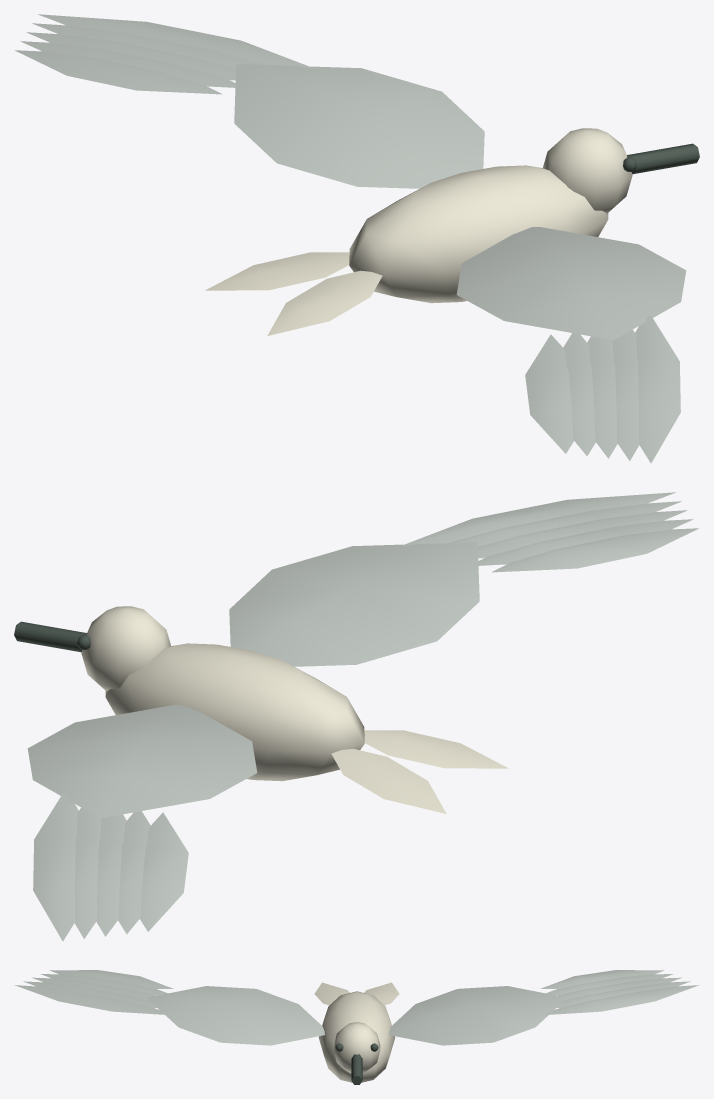
The picture shows the model from 3 angles, top to bottom: view 1: azimuth 30°, elevation 25°; view 2: azimuth 150°, elevation 25°; view 3: azimuth 270°, elevation 25°; orthographic projection. The views are drawn at different scales.
Visible parts, largest first — view 1: Tidemark_coastal_tern_cream, wing_left_wing, wing_right_wing, wingtip_right_wing, wingtip_left_wing, Tidemark_coastal_tern_dark; view 2: Tidemark_coastal_tern_cream, wing_right_wing, wing_left_wing, wingtip_left_wing, wingtip_right_wing, Tidemark_coastal_tern_dark; view 3: wing_left_wing, wing_right_wing, Tidemark_coastal_tern_cream, wingtip_left_wing, wingtip_right_wing, Tidemark_coastal_tern_dark.
Part boxes in pixels (box(x1,y1,x2,y2)): Tidemark_coastal_tern_cream: box(205, 128, 632, 335); wing_left_wing: box(234, 64, 484, 188); wing_right_wing: box(456, 227, 686, 340); wingtip_right_wing: box(525, 315, 680, 463); wingtip_left_wing: box(15, 14, 310, 94); Tidemark_coastal_tern_dark: box(623, 143, 699, 174); Tidemark_coastal_tern_cream: box(81, 606, 508, 813); wing_right_wing: box(229, 542, 479, 666); wing_left_wing: box(27, 705, 257, 818); wingtip_left_wing: box(33, 793, 188, 941); wingtip_right_wing: box(403, 492, 698, 572); Tidemark_coastal_tern_dark: box(14, 621, 90, 652); wing_left_wing: box(389, 986, 567, 1045); wing_right_wing: box(146, 986, 324, 1045); Tidemark_coastal_tern_cream: box(314, 982, 399, 1082); wingtip_left_wing: box(540, 970, 699, 1014); wingtip_right_wing: box(14, 970, 173, 1014); Tidemark_coastal_tern_dark: box(335, 1043, 378, 1084).
Bounding box in the file's own units: 0.8509 × 0.235 × 1.97.
